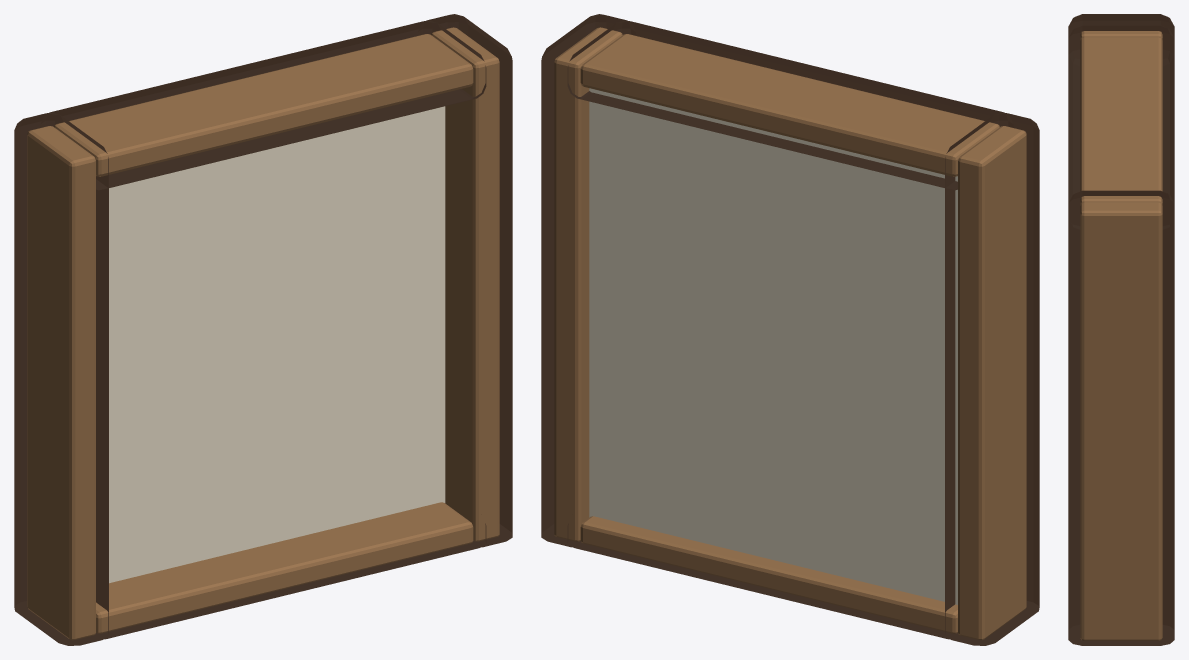
The model's file is teahouse-frame.glb.
3 views of the same model, side by side, from view 1: azimuth 30°, elevation 25°; view 2: azimuth 150°, elevation 25°; view 3: azimuth 270°, elevation 25° (orthographic). The views are drawn at different scales.
Visible parts, largest first — view 1: teahouse-frame, teahouse-frame-outline; view 2: teahouse-frame, teahouse-frame-outline; view 3: teahouse-frame, teahouse-frame-outline.
Boxes of the visible parts, x1,y1,x2,y2 form: teahouse-frame: (27,27,499,640); teahouse-frame-outline: (14,14,512,645); teahouse-frame: (554,27,1026,640); teahouse-frame-outline: (541,14,1039,645); teahouse-frame: (1080,31,1162,640); teahouse-frame-outline: (1068,14,1174,645).
Bounding box in the file's own units: 0.6848 × 0.7114 × 0.1548.
